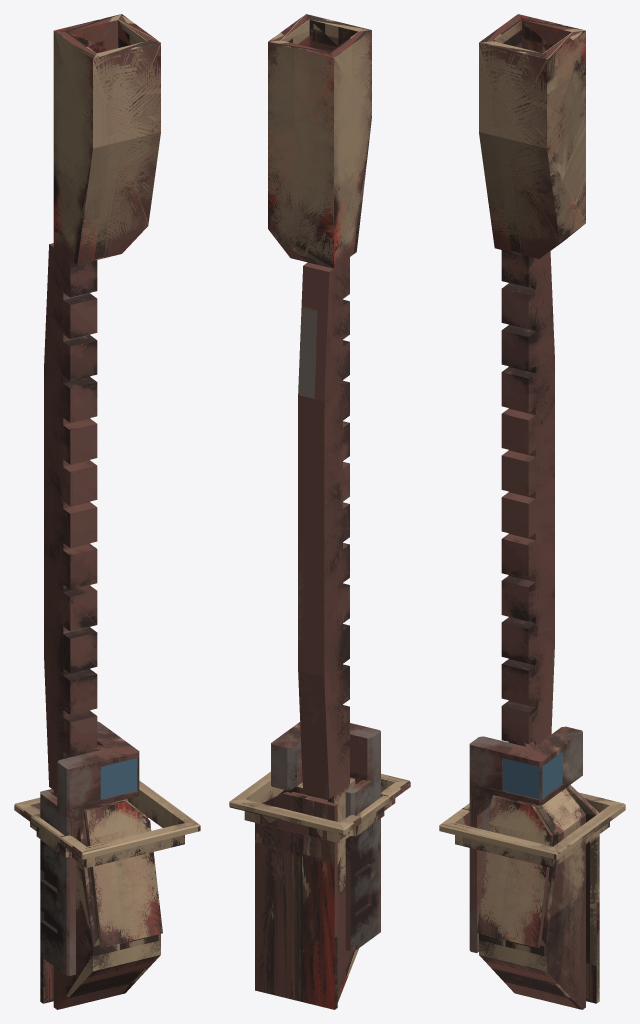
3 views of the same model, side by side, from view 1: azimuth 30°, elevation 25°; view 2: azimuth 150°, elevation 25°; view 3: azimuth 330°, elevation 25° (orthographic). The views are drawn at different scales.
Visible parts, largest first — view 1: 1x1B, Lift; view 2: 1x1B, Lift; view 3: 1x1B, Lift.
Boxes of the visible parts, x1,y1,x2,y2 form: 1x1B: (14,14,200,1009); Lift: (40,721,139,975); 1x1B: (229,14,410,1009); Lift: (271,722,380,951); 1x1B: (439,14,625,1009); Lift: (469,726,582,952).
Bounding box in the file's own units: 1 × 7.84 × 1.
Materials: 4 (3 with a texture image).
